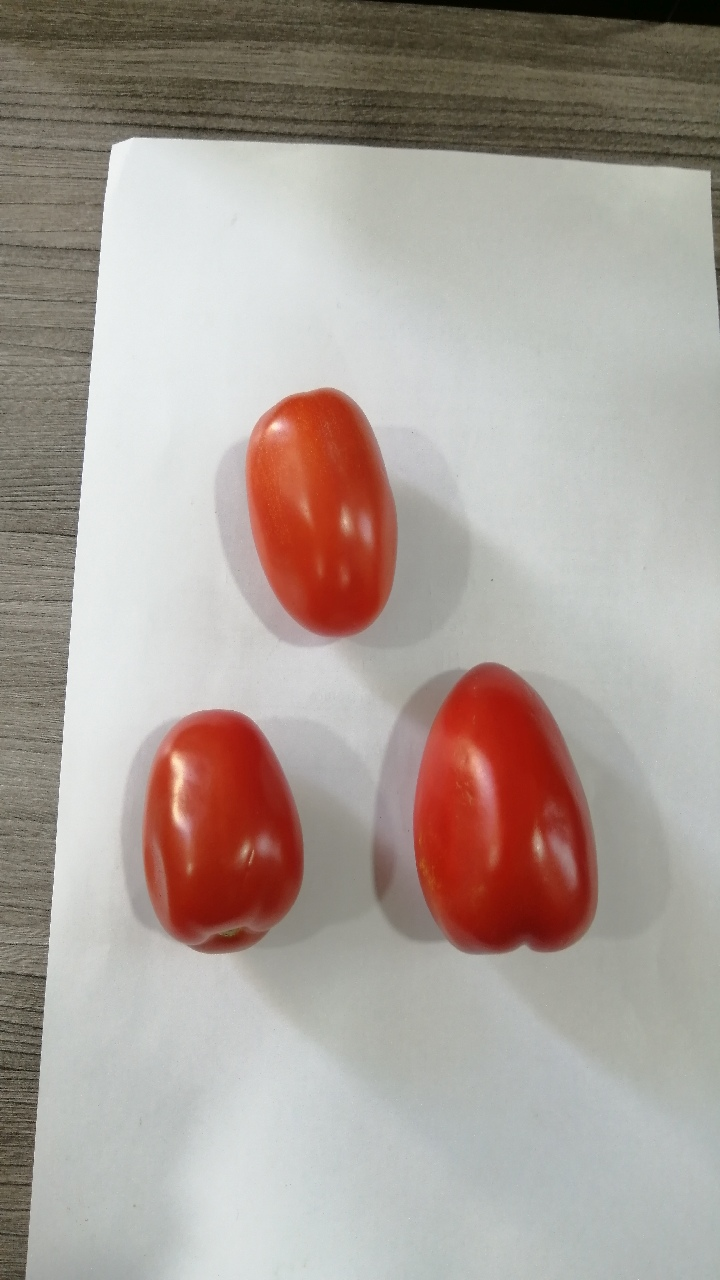tomateRojo: (392, 645, 611, 974), (226, 371, 428, 651), (123, 688, 315, 966)
